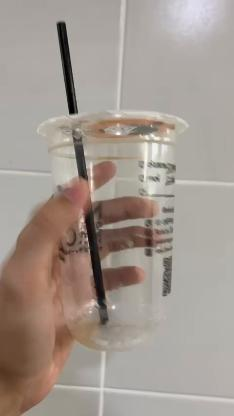Plastic Cup: (36, 111, 190, 351)
